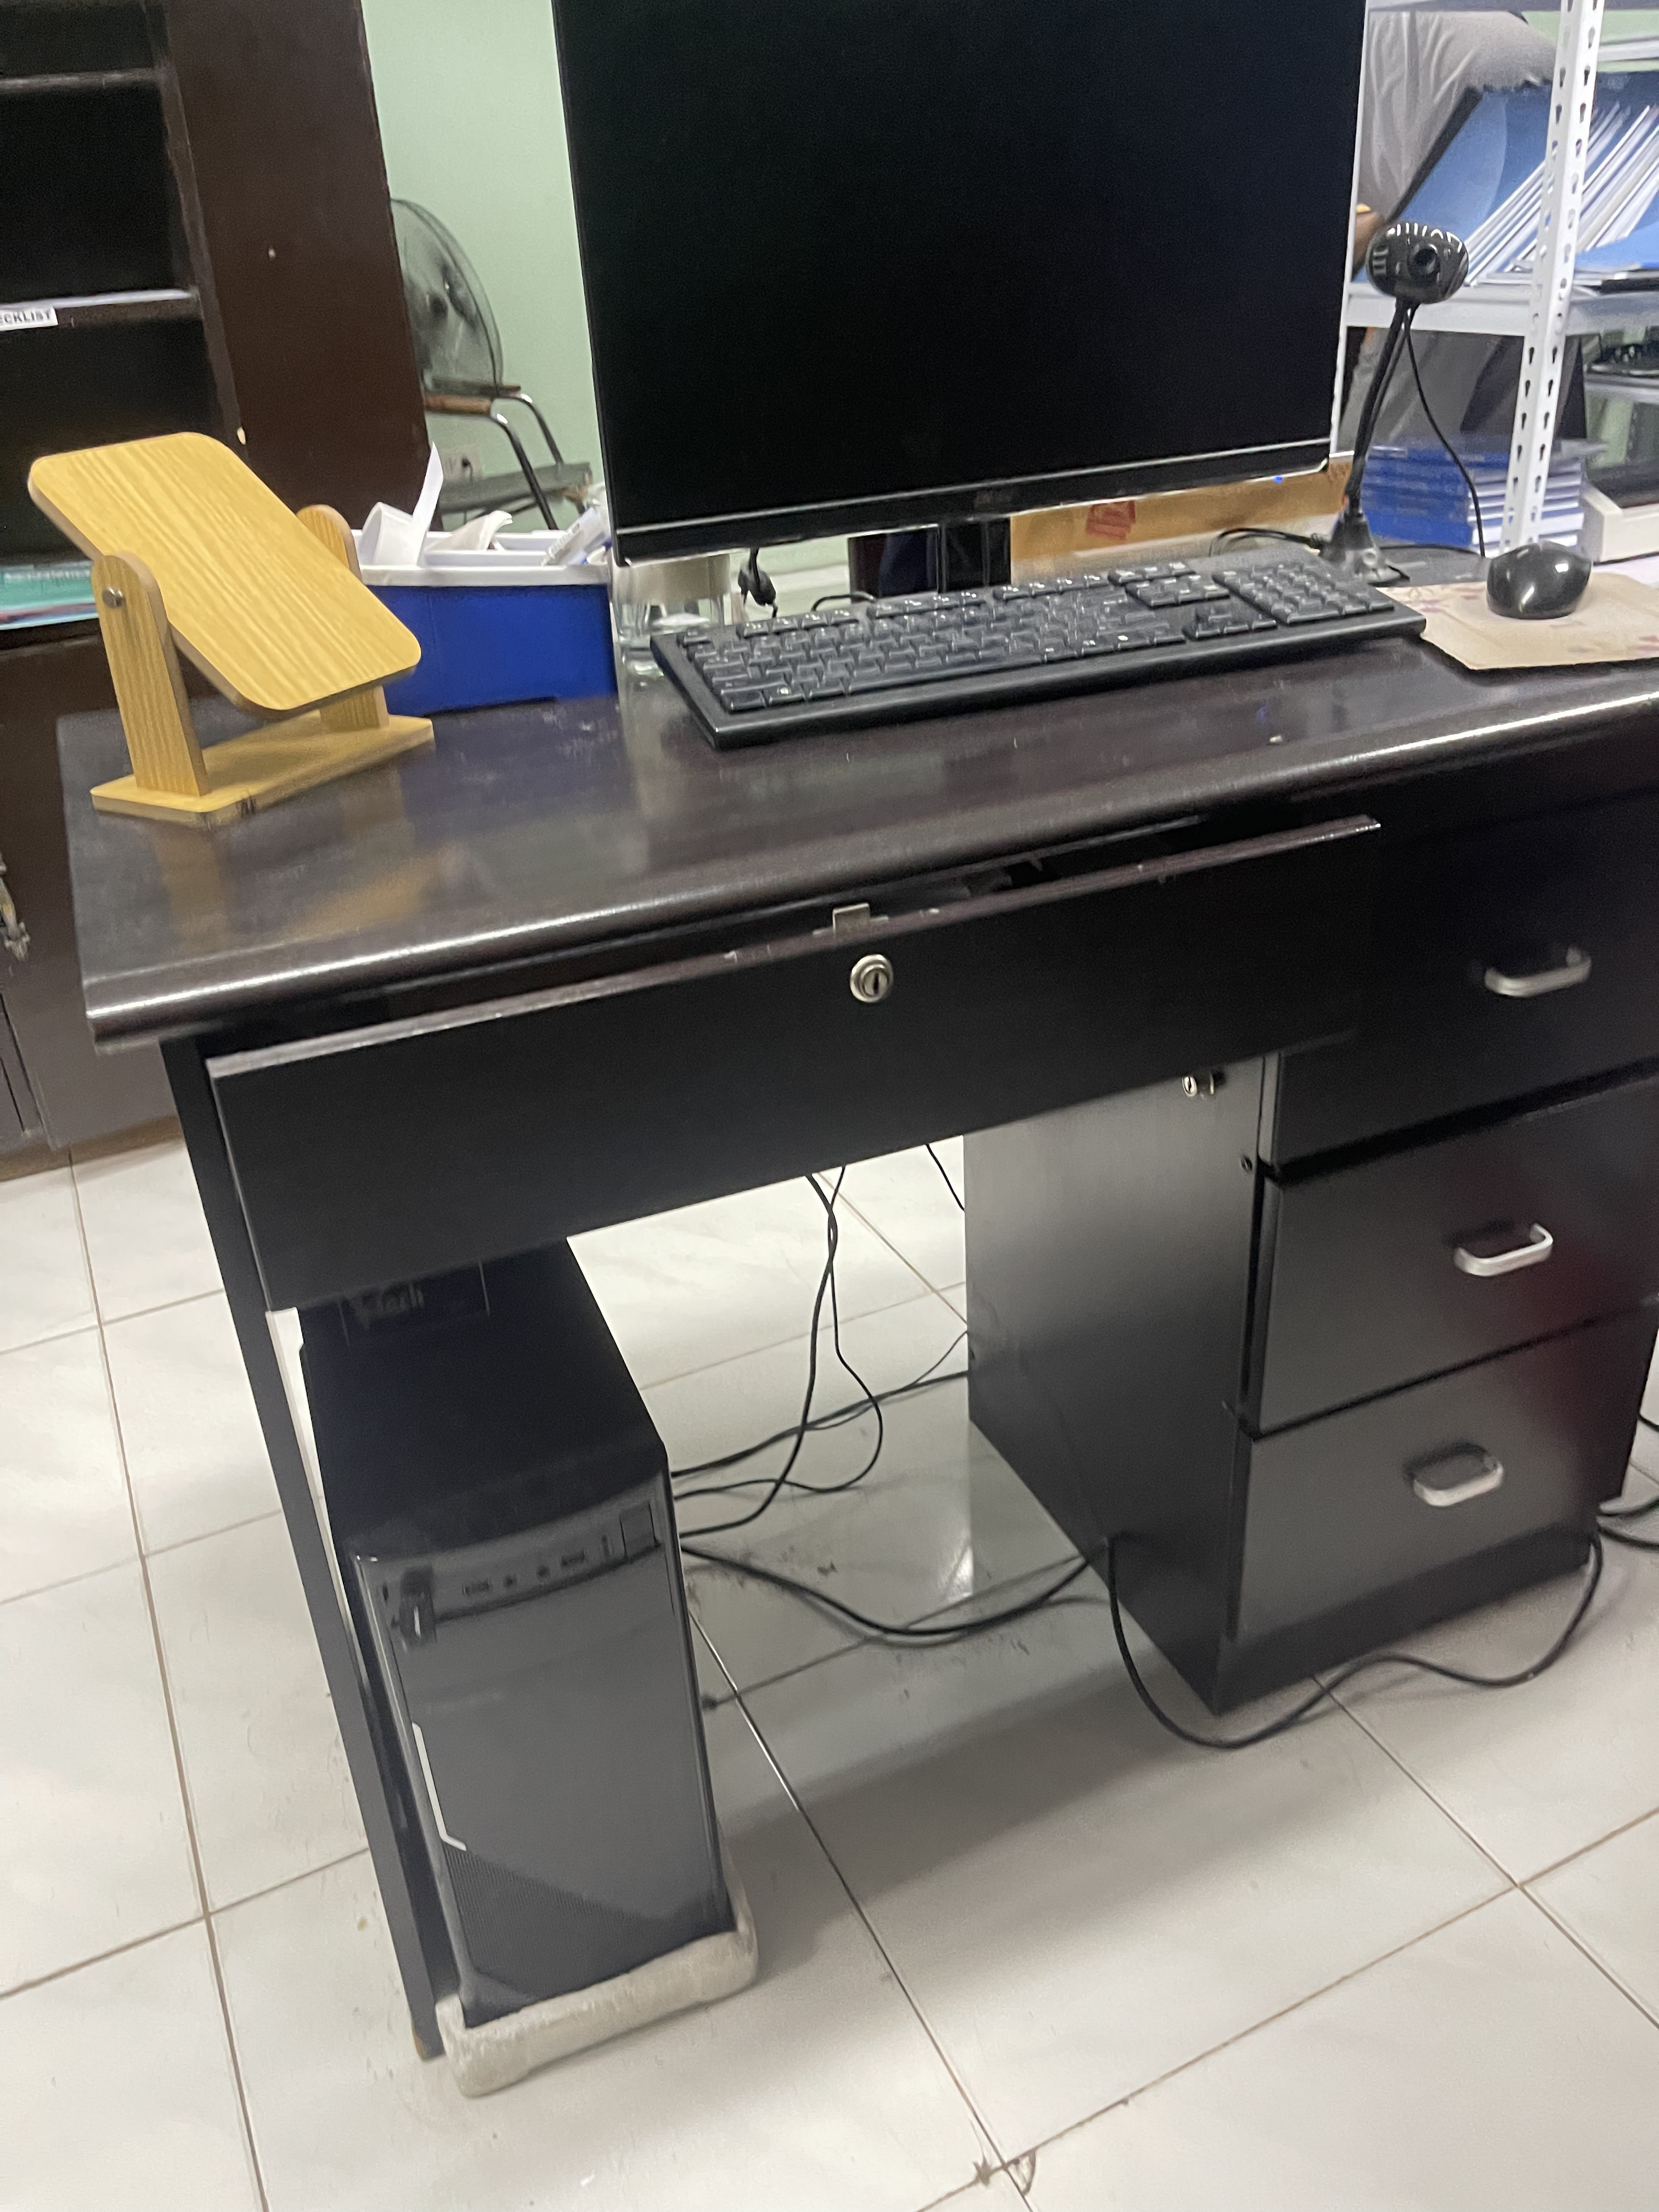table1: (19, 660, 1659, 2127)
